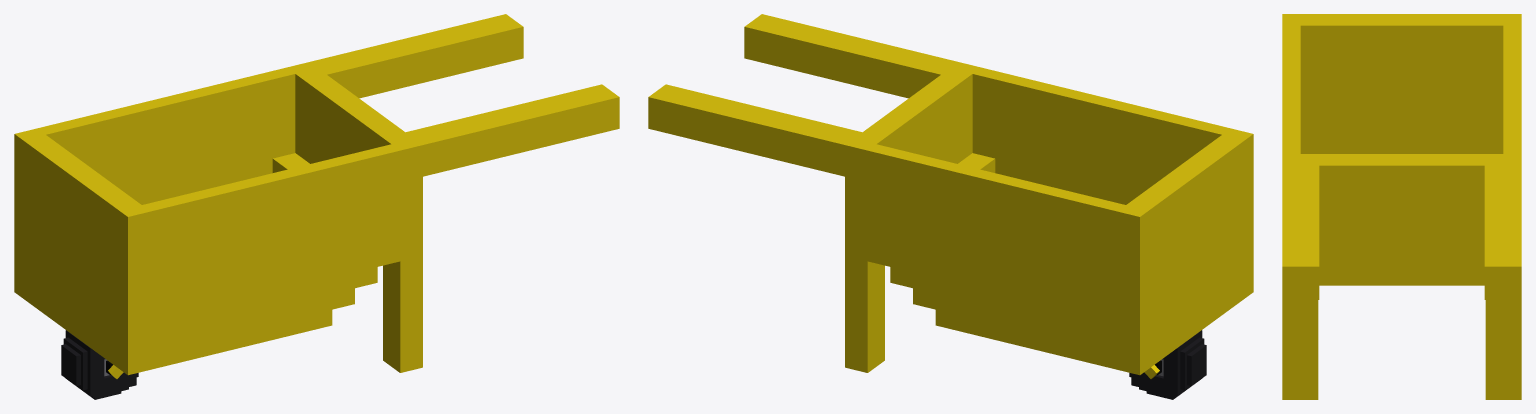
Rendered from wheelb.fbx.
The picture shows the model from 3 angles, left to right: view 1: azimuth 30°, elevation 25°; view 2: azimuth 150°, elevation 25°; view 3: azimuth 270°, elevation 25°; orthographic projection. The views are drawn at different scales.
Parts seen in each view (by area): view 1: wb, wheel; view 2: wb, wheel; view 3: wb.
Part boxes in pixels (x1,y1,x2,y2): wb: [14, 14, 619, 378]; wheel: [61, 330, 138, 399]; wb: [648, 14, 1253, 378]; wheel: [1129, 330, 1206, 399]; wb: [1282, 14, 1521, 399].
Bounding box in the file's own units: 251 × 109 × 100.
